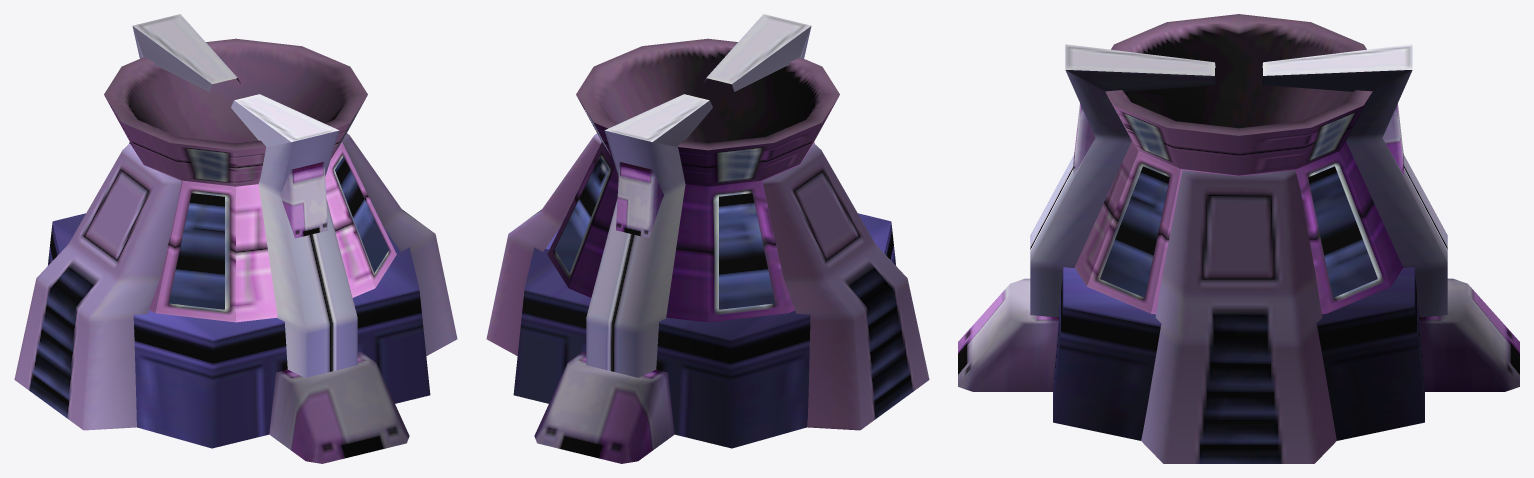
Rendered from datan_common_gmb13_5285430a.obj.
The picture shows the model from 3 angles, left to right: view 1: azimuth 30°, elevation 25°; view 2: azimuth 150°, elevation 25°; view 3: azimuth 270°, elevation 25°; orthographic projection. The views are drawn at different scales.
Parts seen in each view (by area): view 1: datan_common_gmb13_5285430a; view 2: datan_common_gmb13_5285430a; view 3: datan_common_gmb13_5285430a.
Part boxes in pixels (x1=…): datan_common_gmb13_5285430a: x1=14, y1=14, x2=457, y2=463; datan_common_gmb13_5285430a: x1=486, y1=14, x2=929, y2=463; datan_common_gmb13_5285430a: x1=958, y1=14, x2=1519, y2=463.
Size of the model in its own units: 12.66 by 9.11 by 15.09.
1 material, 1 textured.
